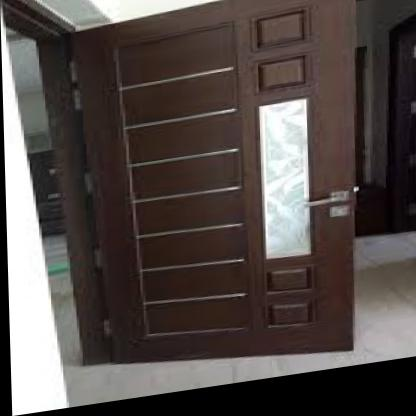door: (67, 0, 361, 386)
